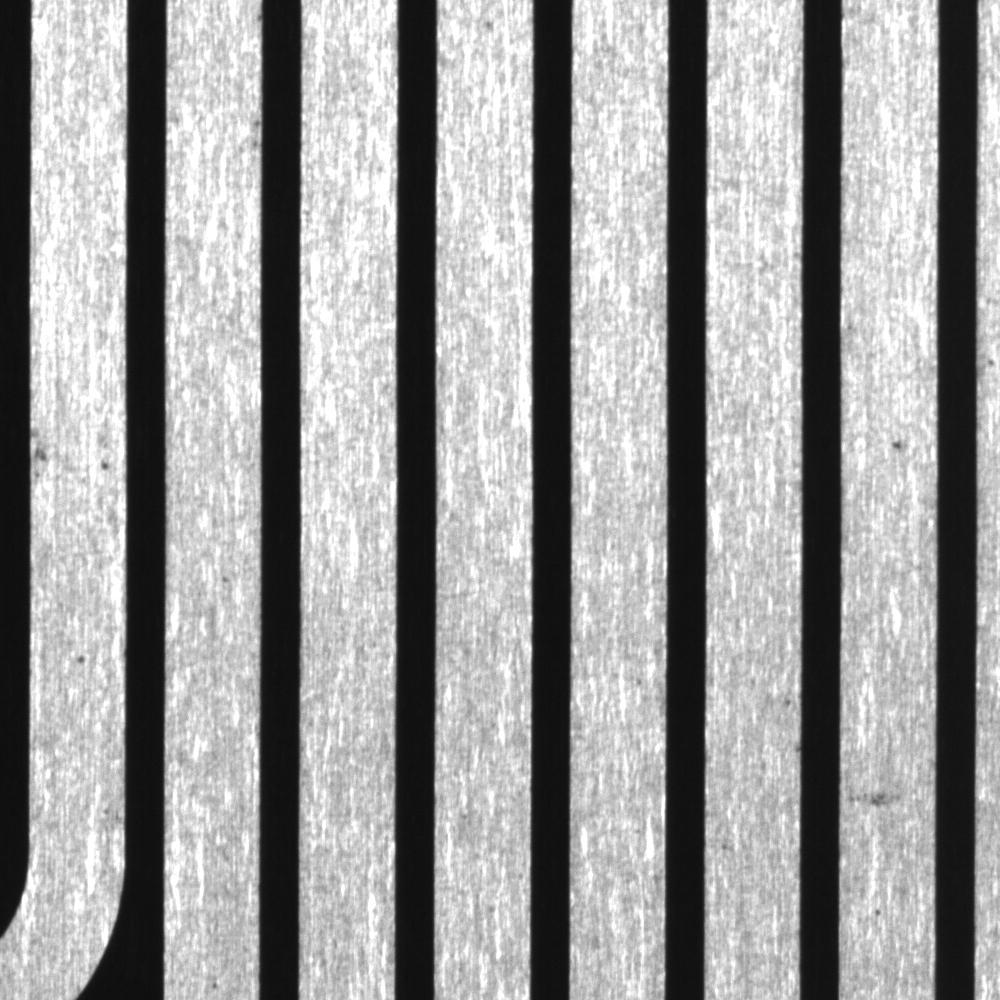Etching: (30, 404, 67, 506), (843, 777, 927, 820), (879, 425, 923, 460)
Pinhole: (89, 442, 122, 485), (69, 640, 95, 675)
